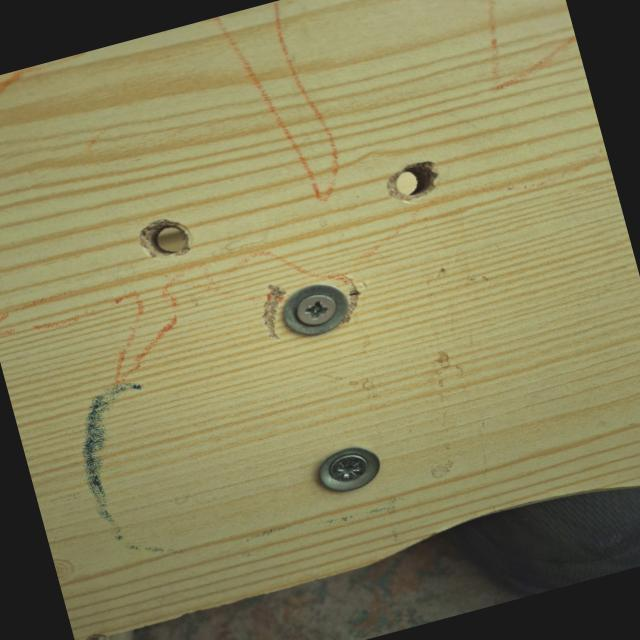Pozidriv: (292, 288, 342, 329), (327, 451, 366, 484)
